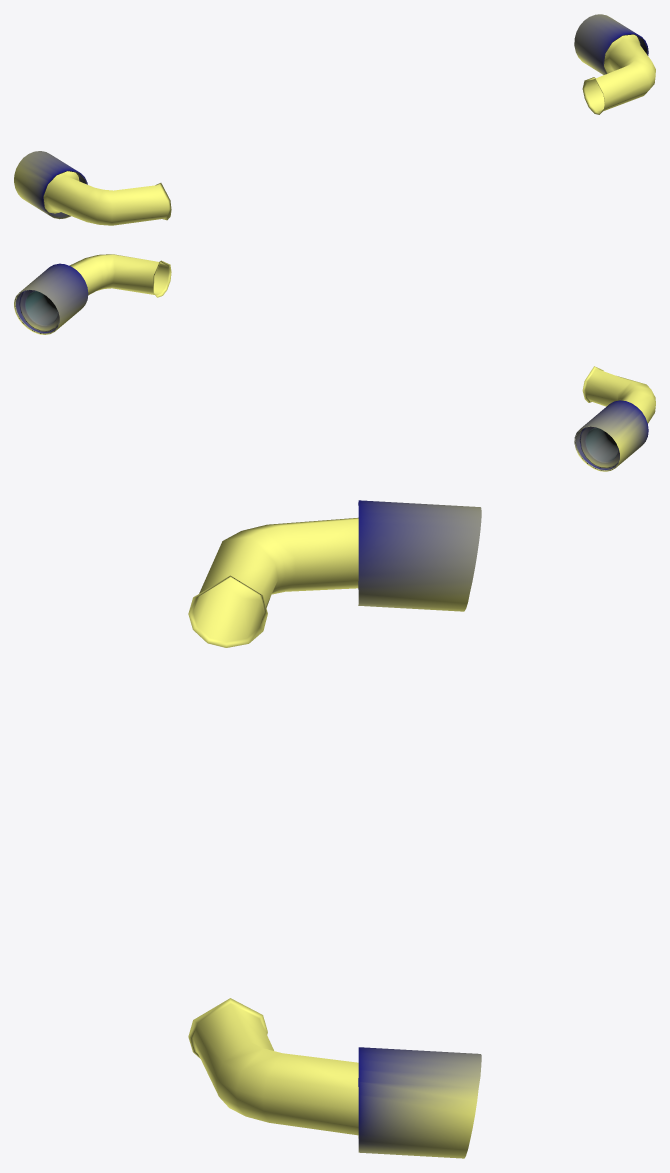
Rendered from Car_Mini_CountrymanJCW_2017_Exhausts_SetA_AltA.fbx.
3 views of the same model, one above another, from view 1: azimuth 30°, elevation 25°; view 2: azimuth 150°, elevation 25°; view 3: azimuth 270°, elevation 25° (orthographic). The views are drawn at different scales.
Visible parts, largest first — view 1: Exhausts 6; view 2: Exhausts 6; view 3: Exhausts 6.
Boxes of the visible parts, bbox=[...] form: Exhausts 6: bbox=[14, 14, 655, 225]; Exhausts 6: bbox=[14, 254, 655, 471]; Exhausts 6: bbox=[188, 500, 481, 1158].
Size of the model in its own units: 1.14 by 0.0918 by 0.2396.
